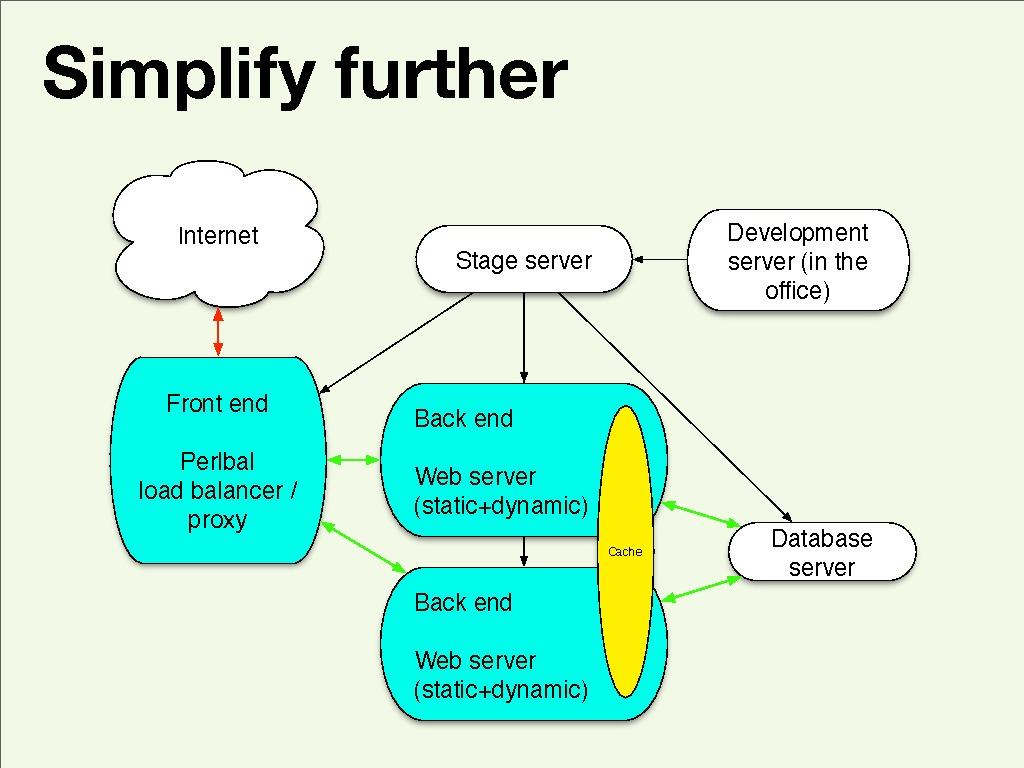paragraph: (31, 34, 581, 113)
